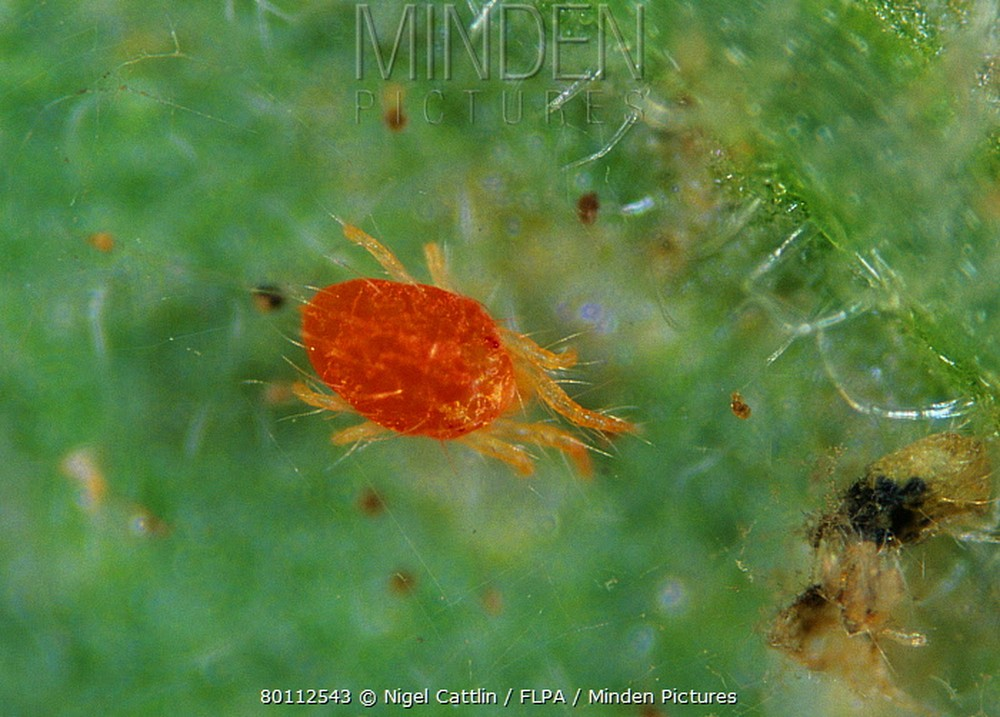Aracnido Rojo: (266, 219, 662, 507)
